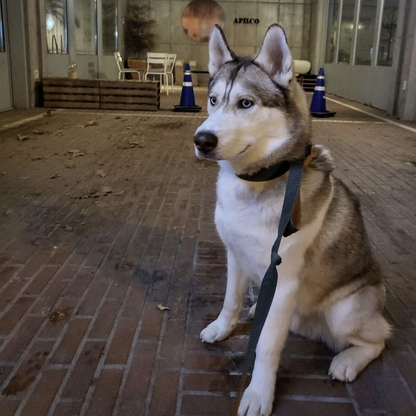husky: (188, 18, 397, 416)
